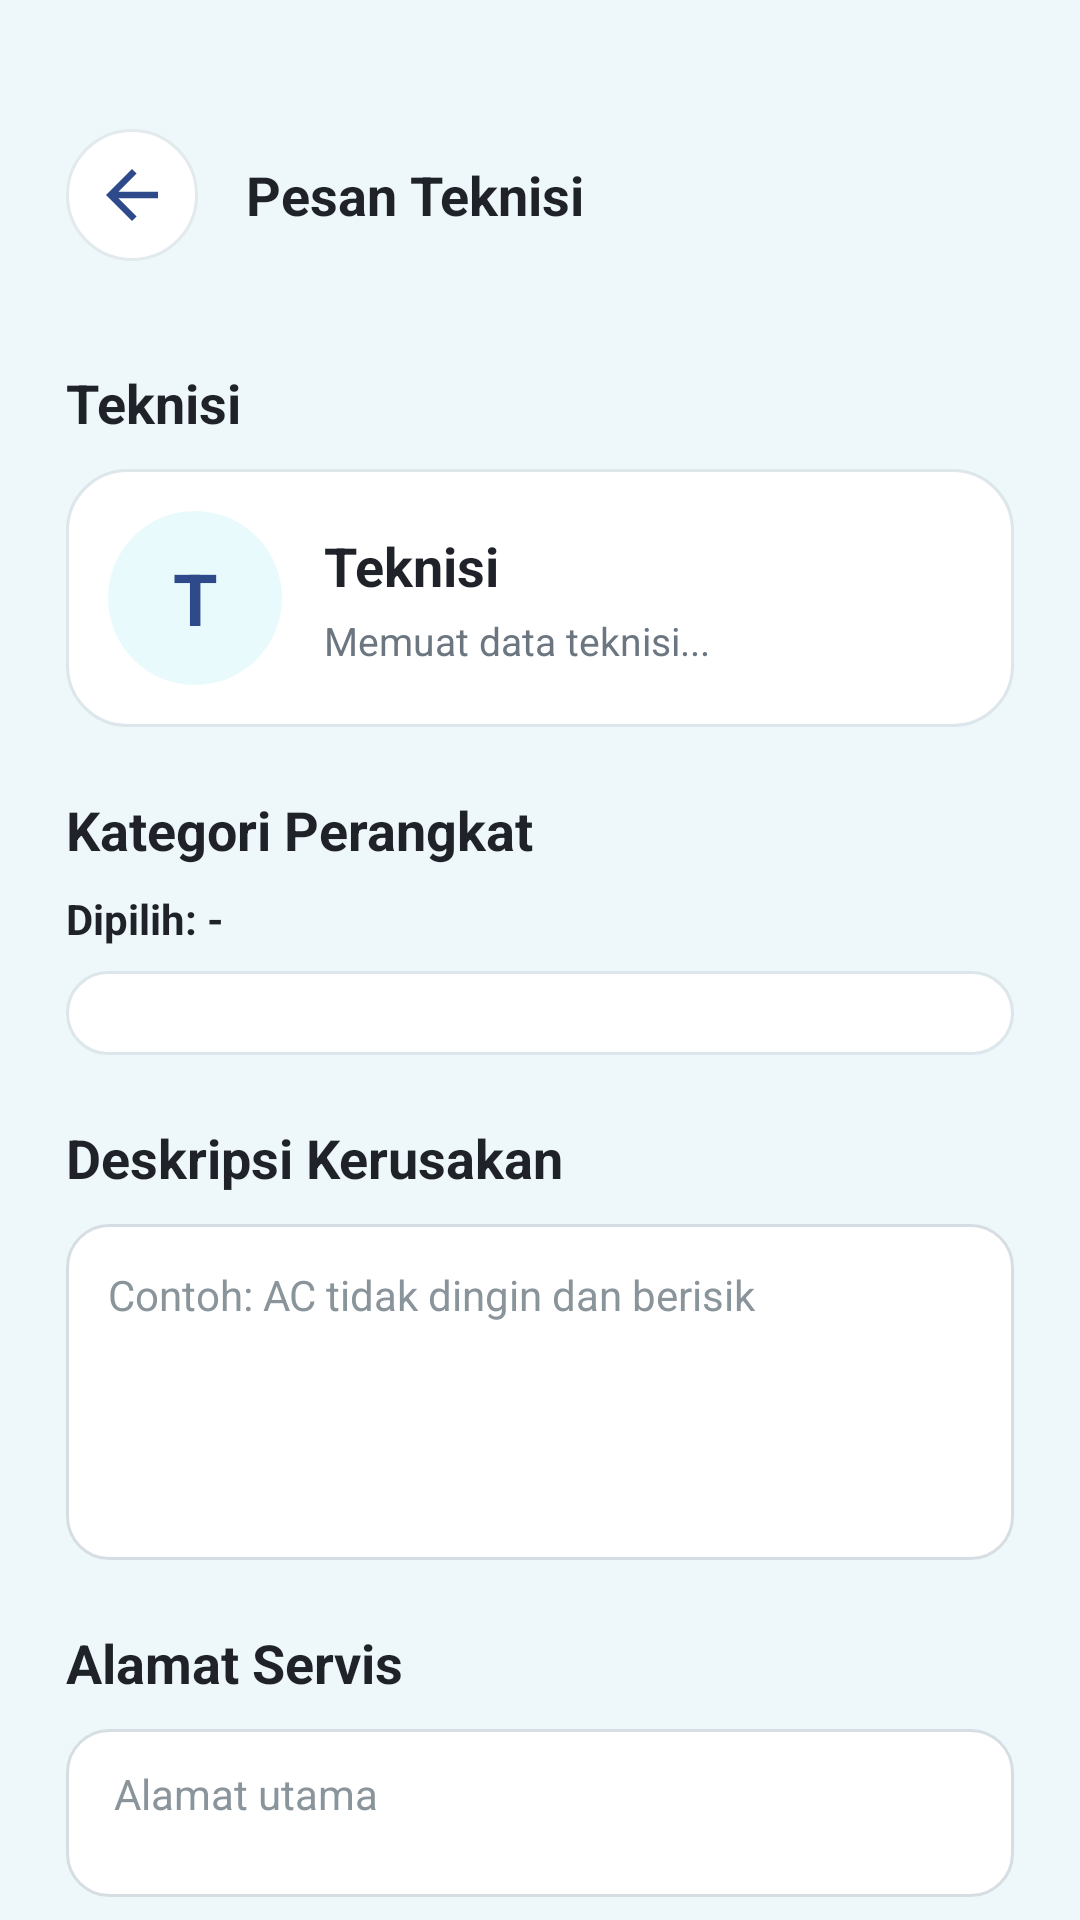

Icons on this 1080x1920 Android screen, each with its box as (x1, y1, x2, y2):
back: (106, 169, 158, 221)
